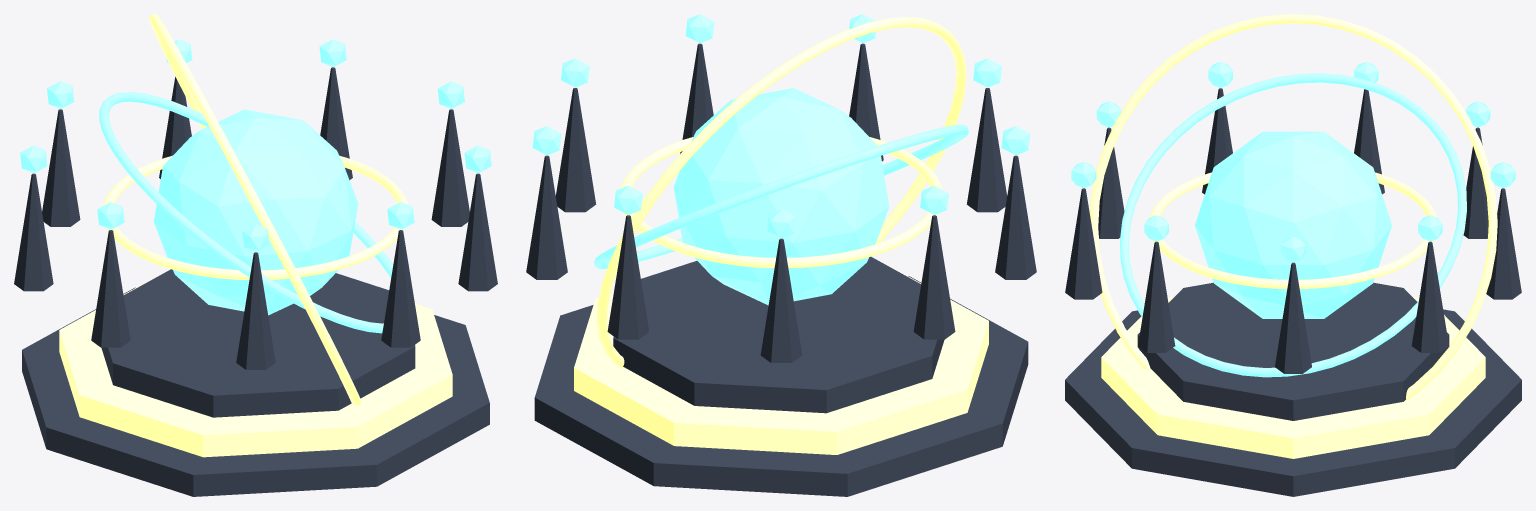
File: gpu-blender-v25.glb
3 renders of one model, left to right at view 1: azimuth 30°, elevation 25°; view 2: azimuth 150°, elevation 25°; view 3: azimuth 270°, elevation 25°, orthographic. The views are drawn at different scales.
Visible parts, largest first — view 1: Cylinder.002, SovereignCore_adytum-alchemist-ai-workflow, Cylinder, Cylinder.001, Torus.001, Torus.002, Torus, Cone.004, Cone.008, Cone.005, Cone.007, Cone.006 (+12 smaller); view 2: Cylinder.002, SovereignCore_adytum-alchemist-ai-workflow, Cylinder, Cylinder.001, Torus.002, Torus.001, Torus, Cone.002, Cone.004, Cone, Cone.001, Cone.005 (+12 smaller); view 3: SovereignCore_adytum-alchemist-ai-workflow, Cylinder.002, Cylinder, Cylinder.001, Torus.002, Torus.001, Torus, Cone.007, Cone.001, Cone.008, Cone, Cone.002 (+10 smaller).
Boxes of the visible parts, box(x1,y1,x2,y2) form: Cylinder.002: box(101, 269, 415, 417); SovereignCore_adytum-alchemist-ai-workflow: box(153, 109, 358, 315); Cylinder: box(22, 287, 489, 496); Cylinder.001: box(59, 277, 452, 457); Torus.001: box(99, 92, 393, 333); Torus.002: box(149, 14, 361, 405); Torus: box(103, 155, 408, 279); Cone.004: box(14, 173, 53, 291); Cone.008: box(458, 173, 497, 291); Cone.005: box(91, 230, 130, 347); Cone.007: box(381, 230, 420, 347); Cone.006: box(236, 252, 275, 369); Cylinder.002: box(613, 256, 944, 413); SovereignCore_adytum-alchemist-ai-workflow: box(673, 88, 889, 305); Cylinder: box(534, 276, 1028, 496); Cylinder.001: box(574, 265, 988, 454); Torus.002: box(596, 17, 966, 367); Torus.001: box(594, 124, 968, 269); Torus: box(621, 137, 942, 268); Cone.002: box(607, 215, 649, 339); Cone.004: box(913, 215, 955, 339); Cone: box(555, 88, 596, 212); Cone.001: box(526, 155, 567, 279); Cone.005: box(995, 155, 1036, 279); SovereignCore_adytum-alchemist-ai-workflow: box(1195, 131, 1391, 318); Cylinder.002: box(1137, 282, 1449, 420); Cylinder: box(1065, 309, 1521, 496); Cylinder.001: box(1101, 296, 1485, 458); Torus.002: box(1090, 14, 1497, 400); Torus.001: box(1120, 73, 1466, 377); Torus: box(1150, 172, 1436, 288); Cone.007: box(1065, 188, 1102, 299); Cone.001: box(1411, 241, 1448, 352); Cone.008: box(1138, 241, 1175, 352); Cone: box(1275, 262, 1311, 373); Cone.002: box(1486, 188, 1521, 299).
Size of the model in its own units: 4.41 by 3.72 by 4.4.
